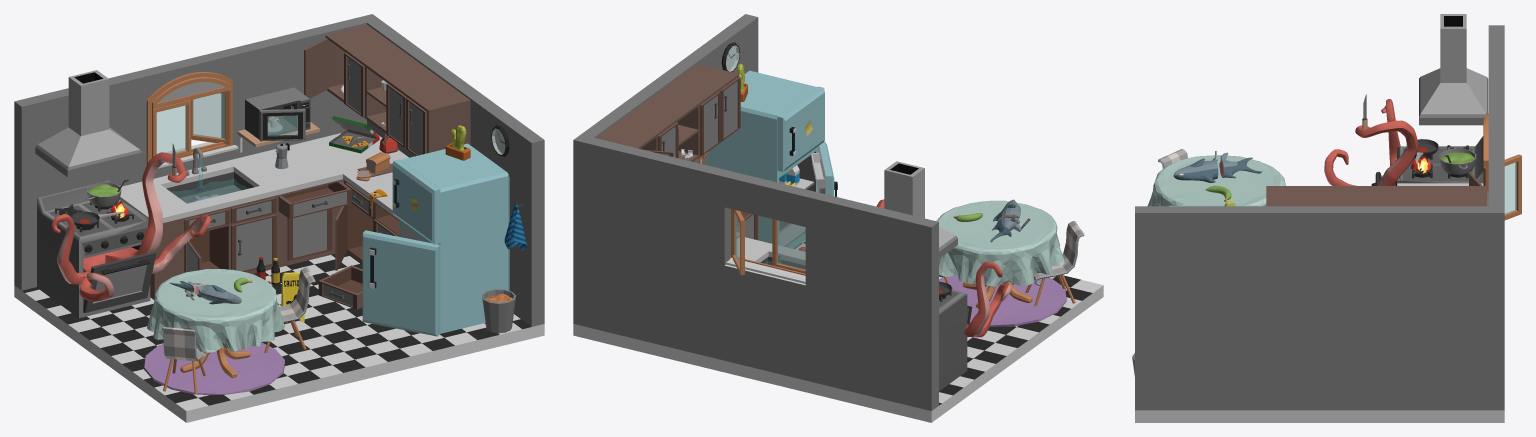
Rendered from low_poly_kitchen.glb.
3 renders of one model, left to right at view 1: azimuth 30°, elevation 25°; view 2: azimuth 150°, elevation 25°; view 3: azimuth 270°, elevation 25°, orthographic. The views are drawn at different scales.
Visible parts, largest first — view 1: Window, Cylinder.003, Plane.002, Plane.001, Plane.003, Cube.013, Plane.000, Cube.011, Circle, Cube.015, Cylinder.002, Cube.000 (+6 smaller); view 2: Window, Plane.001, Plane.002, Cube.013, Plane.000, Plane.003, Circle, Cube.011, Cylinder.003, Cylinder.002, Plane.005_cell.001; view 3: Window, Plane.003, Cube.011, Plane.002, Cube.013, Plane.000, Plane.005_cell.001.
Boxes of the visible parts, <box> form: Window: <box>14,14,544,326</box>; Cylinder.003: <box>119,133,408,309</box>; Plane.002: <box>14,253,544,422</box>; Plane.001: <box>362,143,509,336</box>; Plane.003: <box>37,143,211,318</box>; Cube.013: <box>304,25,470,155</box>; Plane.000: <box>147,269,284,378</box>; Cube.011: <box>35,70,142,177</box>; Circle: <box>144,342,284,394</box>; Cube.015: <box>237,87,319,152</box>; Cylinder.002: <box>162,327,205,394</box>; Cube.000: <box>482,289,516,333</box>; Window: <box>573,14,938,410</box>; Plane.001: <box>708,70,837,251</box>; Plane.002: <box>573,240,1103,422</box>; Cube.013: <box>596,63,740,161</box>; Plane.000: <box>936,200,1064,308</box>; Plane.003: <box>876,199,1011,391</box>; Circle: <box>939,274,1066,326</box>; Cube.011: <box>884,161,957,258</box>; Cylinder.003: <box>737,211,805,268</box>; Cylinder.002: <box>1025,221,1084,306</box>; Plane.005_cell.001: <box>990,199,1021,242</box>; Window: <box>1135,25,1521,410</box>; Plane.003: <box>1324,94,1483,185</box>; Cube.011: <box>1419,14,1488,125</box>; Plane.002: <box>1135,410,1504,422</box>; Cube.013: <box>1266,173,1487,206</box>; Plane.000: <box>1147,151,1285,206</box>; Plane.005_cell.001: <box>1173,152,1262,182</box>.
Bounding box in the file's own units: 5.75 × 3.29 × 4.83.
Materials: 8 (1 with a texture image).
